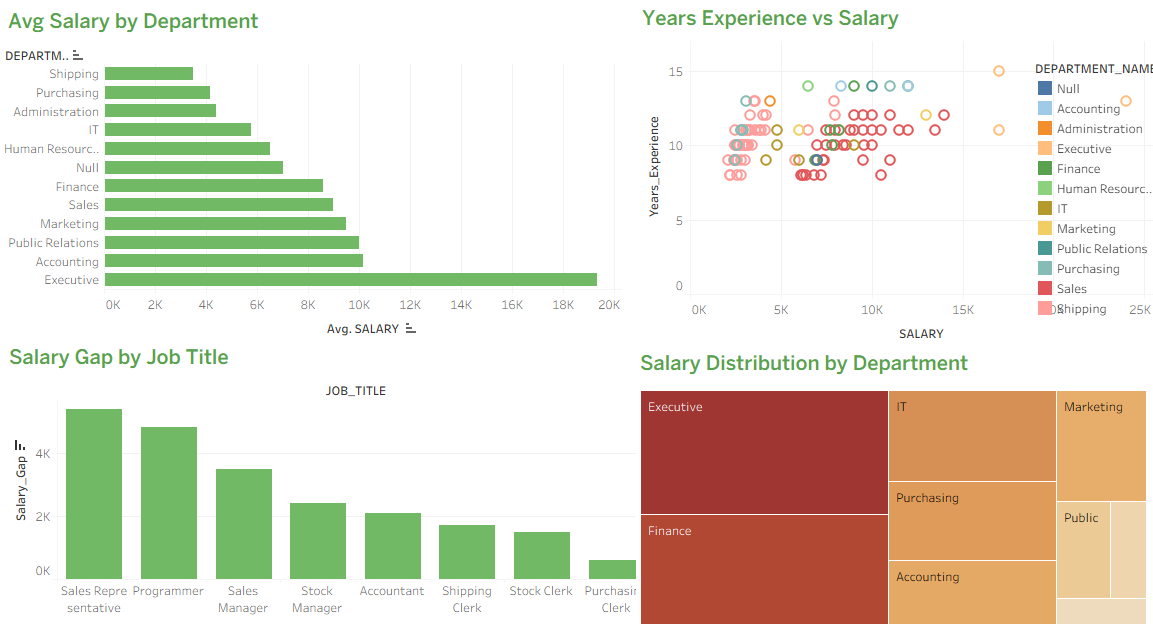

What the dashboard file says about the page in this screenshot:
{"tool":"tableau","page":{"name":"Dashboard 1","canvas":[1000,1000],"units":"permille","ordinal":0},"visuals":[{"type":"worksheet","title":"Sheet 3","mark":"Automatic","rows":["Calculation_0968691838283777"],"cols":["SALARY"],"box":[554.1,3.2,445.9,549.1]},{"type":"worksheet","title":"Sheet 1","mark":"Automatic","rows":["DEPARTMENT_NAME"],"cols":["SALARY"],"box":[5.2,7.9,535.1,536.4]},{"type":"worksheet","title":"Sheet 2","mark":"Automatic","rows":["Calculation_0968691834503168"],"cols":["JOB_TITLE"],"box":[6.1,539.6,561.9,439.9]},{"type":"worksheet","title":"Sheet 4","mark":"Automatic","box":[552.4,549.1,445,446.2]}]}

Visuals, with their boxes on the dashboard's canvas, which has no fixed pixel size, in thousandths of its width and height (x1, y1, x2, y2). These are canvas units, not pixel positions in the 1153x632 screenshot, which may show the page scaled, cropped or inside an application window:
"Sheet 3" worksheet: region(554, 3, 1000, 552)
"Sheet 1" worksheet: region(5, 8, 540, 544)
"Sheet 2" worksheet: region(6, 540, 568, 980)
"Sheet 4" worksheet: region(552, 549, 997, 995)
